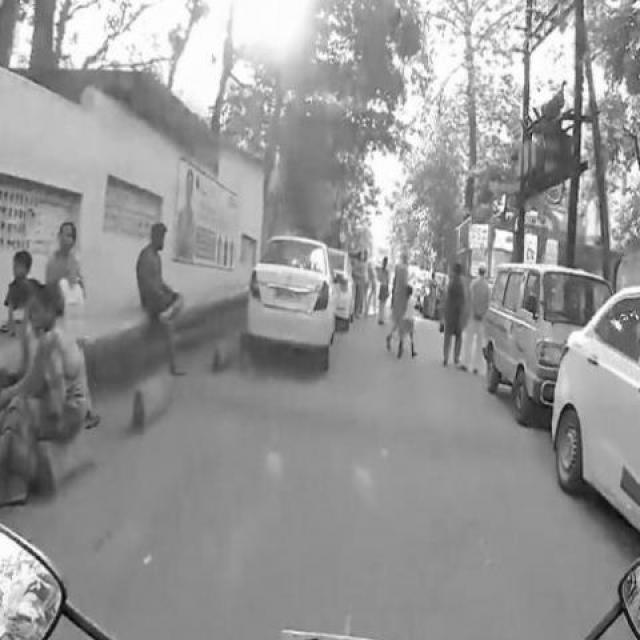Unmarked Bump: (186, 360, 528, 450)
